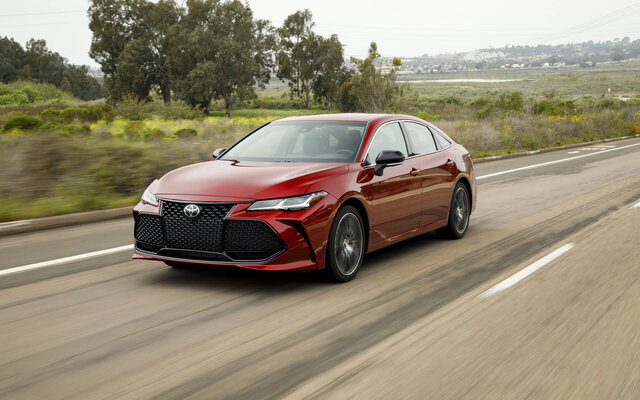car: (132, 111, 478, 283)
